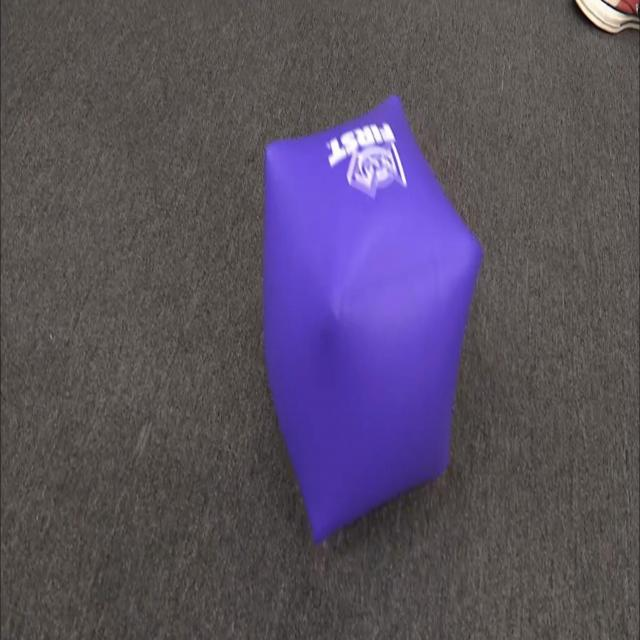frc_cube: (256, 93, 484, 544)
